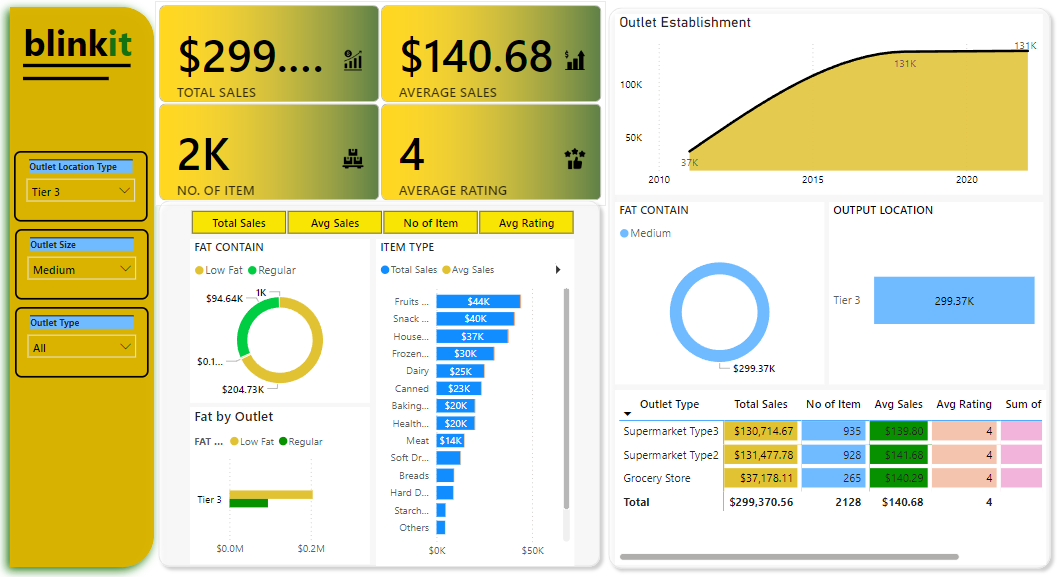

The dashboard page shown, as its layout file describes it:
{"tool":"powerbi","page":{"name":"Page 1","canvas":[1280,720],"ordinal":0},"visuals":[{"type":"shape","box":[9.5,14.3,204.6,699.5],"z":0},{"type":"textbox","box":[36.9,38.1,141.6,124.9],"z":1000},{"type":"cardVisual","fields":{"Data":["BlinkIT Grocery Data.Total Sales","BlinkIT Grocery Data.Avg Sales","BlinkIT Grocery Data.No of Item","BlinkIT Grocery Data.Avg Rating"]},"box":[198.7,23.8,536.5,243.9],"z":2000},{"type":"shape","box":[193.9,252.2,543,453.2],"z":3000},{"type":"donutChart","title":"FAT CONTAIN","fields":{"Y":["BlinkIT Grocery Data.Total Sales","BlinkIT Grocery Data.Avg Sales","BlinkIT Grocery Data.No of Item","BlinkIT Grocery Data.Avg Rating"],"Category":["BlinkIT Grocery Data.Item Fat Content"]},"box":[240.3,306.9,214.1,195],"z":4000},{"type":"slicer","fields":{"Values":["Metrics.Metrics"]},"box":[216.5,266.5,504.4,40.4],"z":5000},{"type":"clusteredBarChart","title":"Fat by Outlet","fields":{"Y":["BlinkIT Grocery Data.Total Sales"],"Category":["BlinkIT Grocery Data.Outlet Location Type"],"Series":["BlinkIT Grocery Data.Item Fat Content"]},"box":[240.3,506.8,214,186.8],"z":6000},{"type":"barChart","title":"ITEM TYPE","fields":{"Y":["BlinkIT Grocery Data.Total Sales","BlinkIT Grocery Data.Avg Sales","BlinkIT Grocery Data.No of Item","BlinkIT Grocery Data.Avg Rating","BlinkIT Grocery Data.Total Sales"],"Category":["BlinkIT Grocery Data.Item Type"]},"box":[461.6,306.9,235.5,389],"z":7000},{"type":"shape","box":[729.2,22.6,543.6,685],"z":8000},{"type":"lineChart","title":" Outlet Establishment ","fields":{"Category":["BlinkIT Grocery Data.Outlet Establishment Year"],"Y":["Sum(BlinkIT Grocery Data.Sales)"]},"box":[745.9,39.3,509.1,215.3],"z":9000},{"type":"donutChart","title":"FAT CONTAIN","fields":{"Y":["BlinkIT Grocery Data.Total Sales"],"Category":["BlinkIT Grocery Data.Outlet Size"]},"box":[745.9,262.9,249,216.5],"z":10000},{"type":"funnel","title":"OUTPUT LOCATION","fields":{"Y":["Sum(BlinkIT Grocery Data.Sales)"],"Category":["BlinkIT Grocery Data.Outlet Location Type"]},"box":[1000.4,262.9,254.6,216.5],"z":10001},{"type":"pivotTable","fields":{"Rows":["BlinkIT Grocery Data.Outlet Type"],"Values":["BlinkIT Grocery Data.Total Sales","BlinkIT Grocery Data.No of Item","BlinkIT Grocery Data.Avg Sales","BlinkIT Grocery Data.Avg Rating","Sum(BlinkIT Grocery Data.Item Visibility)"]},"box":[745.9,486.5,512.7,208.2],"z":10002},{"type":"slicer","fields":{"Values":["BlinkIT Grocery Data.Outlet Location Type"]},"box":[30.9,202.2,159.4,84.5],"z":10003},{"type":"slicer","fields":{"Values":["BlinkIT Grocery Data.Outlet Size"]},"box":[32.1,295,159.4,84.5],"z":10004},{"type":"shape","box":[41.6,69,128.5,63],"z":10006},{"type":"shape","box":[41.6,84.5,102.3,63],"z":10007},{"type":"slicer","fields":{"Values":["BlinkIT Grocery Data.Outlet Type"]},"box":[32.1,387.8,159.4,84.5],"z":10008}]}

Visuals, with their boxes on the page's 1280x720 design canvas (x1, y1, x2, y2). These are canvas units, not pixel positions in the 1057x577 screenshot, which may show the page scaled, cropped or inside an application window:
shape: <region>10, 14, 214, 714</region>
textbox: <region>37, 38, 178, 163</region>
cardVisual - BlinkIT Grocery Data.Total Sales x BlinkIT Grocery Data.Avg Sales: <region>199, 24, 735, 268</region>
shape: <region>194, 252, 737, 705</region>
"FAT CONTAIN" donutChart: <region>240, 307, 454, 502</region>
slicer - Metrics.Metrics: <region>216, 266, 721, 307</region>
"Fat by Outlet" clusteredBarChart: <region>240, 507, 454, 694</region>
"ITEM TYPE" barChart: <region>462, 307, 697, 696</region>
shape: <region>729, 23, 1273, 708</region>
" Outlet Establishment " lineChart: <region>746, 39, 1255, 255</region>
"FAT CONTAIN" donutChart: <region>746, 263, 995, 479</region>
"OUTPUT LOCATION" funnel: <region>1000, 263, 1255, 479</region>
pivotTable - BlinkIT Grocery Data.Outlet Type x BlinkIT Grocery Data.Total Sales: <region>746, 486, 1259, 695</region>
slicer - BlinkIT Grocery Data.Outlet Location Type: <region>31, 202, 190, 287</region>
slicer - BlinkIT Grocery Data.Outlet Size: <region>32, 295, 192, 380</region>
shape: <region>42, 69, 170, 132</region>
shape: <region>42, 84, 144, 148</region>
slicer - BlinkIT Grocery Data.Outlet Type: <region>32, 388, 192, 472</region>
